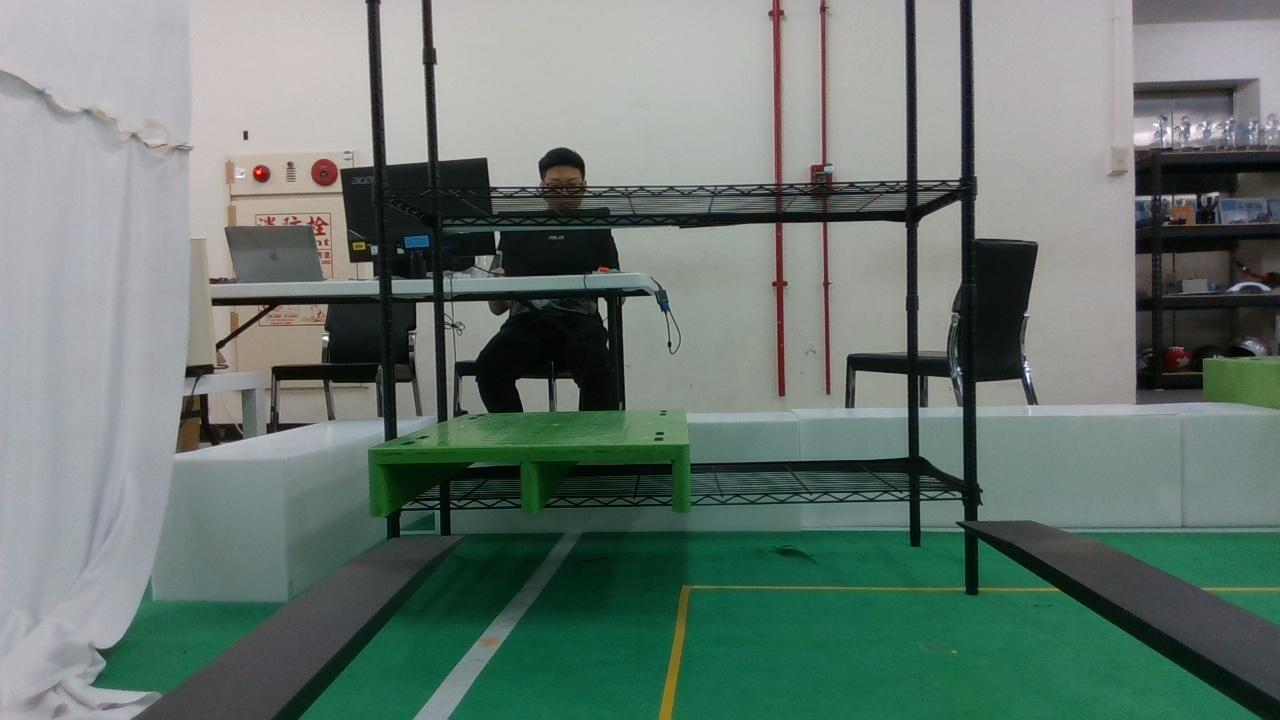Pallet: (366, 442, 691, 516)
